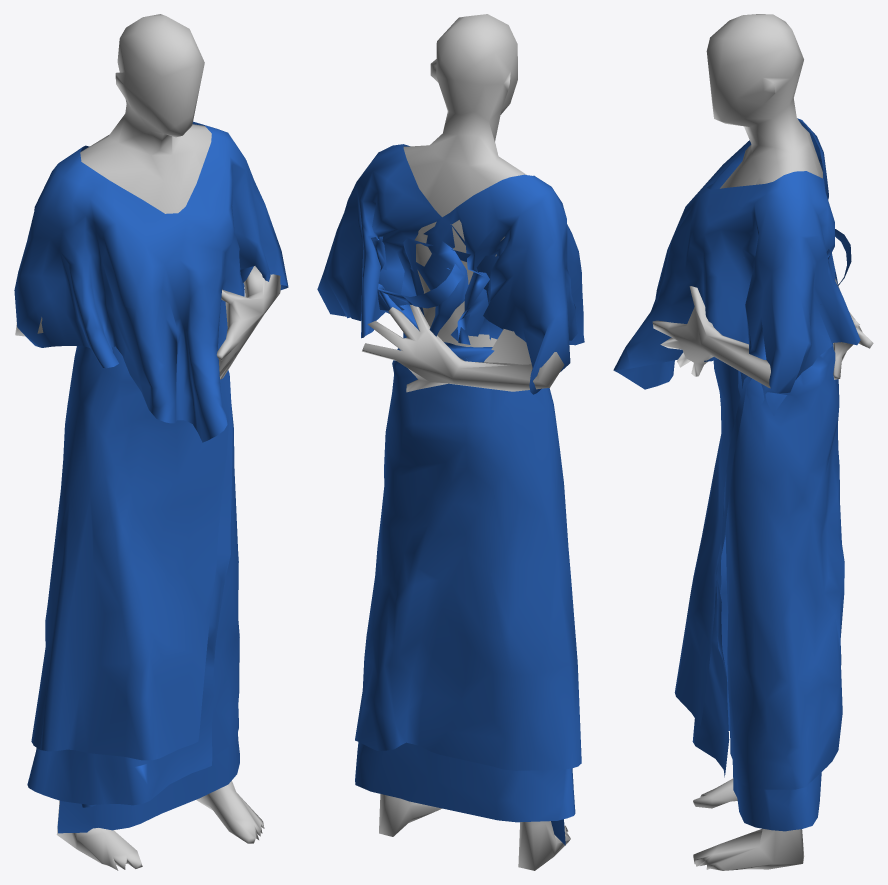
File: personaA1.obj
3 renders of one model, left to right at view 1: azimuth 30°, elevation 25°; view 2: azimuth 150°, elevation 25°; view 3: azimuth 270°, elevation 25°, orthographic.
Visible parts, largest first — view 1: TrajeTipico, Maniqui; view 2: TrajeTipico, Maniqui; view 3: TrajeTipico, Maniqui.
Boxes of the visible parts, left/top/right/bottom form: TrajeTipico: left=14, top=121, right=288, bottom=833; Maniqui: left=15, top=14, right=280, bottom=870; TrajeTipico: left=317, top=144, right=584, bottom=845; Maniqui: left=362, top=14, right=570, bottom=870; TrajeTipico: left=613, top=118, right=860, bottom=831; Maniqui: left=652, top=14, right=873, bottom=870.
Size of the model in its own units: 59.57 by 183 by 52.7.
